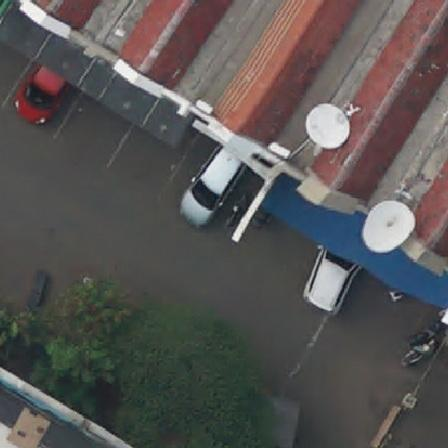Car: (181, 150, 241, 223), (14, 61, 71, 126), (300, 244, 349, 314)
Motorcycle: (395, 338, 440, 369), (406, 319, 445, 341), (230, 193, 249, 231)
